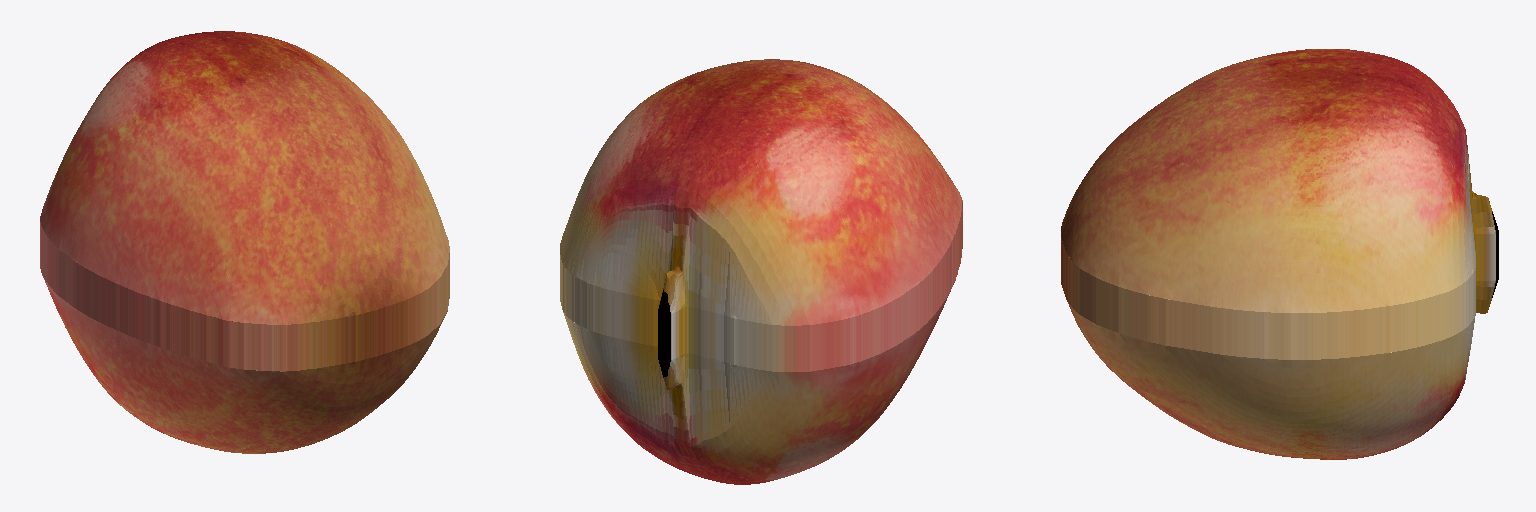
3 views of the same model, side by side, from view 1: azimuth 30°, elevation 25°; view 2: azimuth 150°, elevation 25°; view 3: azimuth 270°, elevation 25° (orthographic).
Visible parts, largest first — view 1: Grid; view 2: Grid; view 3: Grid.
Boxes of the visible parts, <box> form: Grid: <box>40,31,449,453</box>; Grid: <box>560,59,962,484</box>; Grid: <box>1061,49,1498,459</box>.
Size of the model in its own units: 1.49 by 1.6 by 1.71.
Materials: 1 (1 with a texture image).